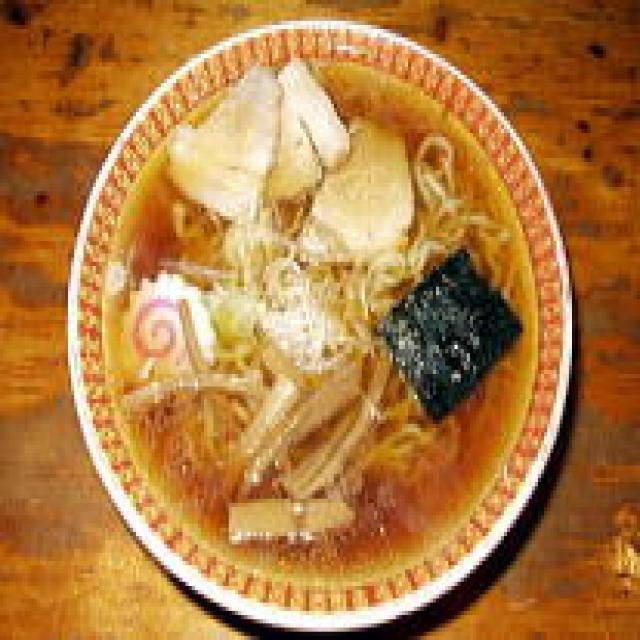面条主食: (53, 4, 575, 632)
